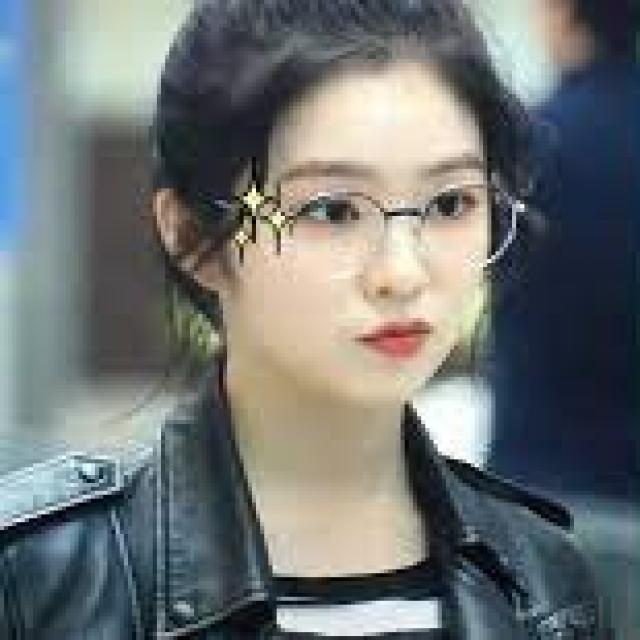Glasses: (182, 165, 532, 290)
